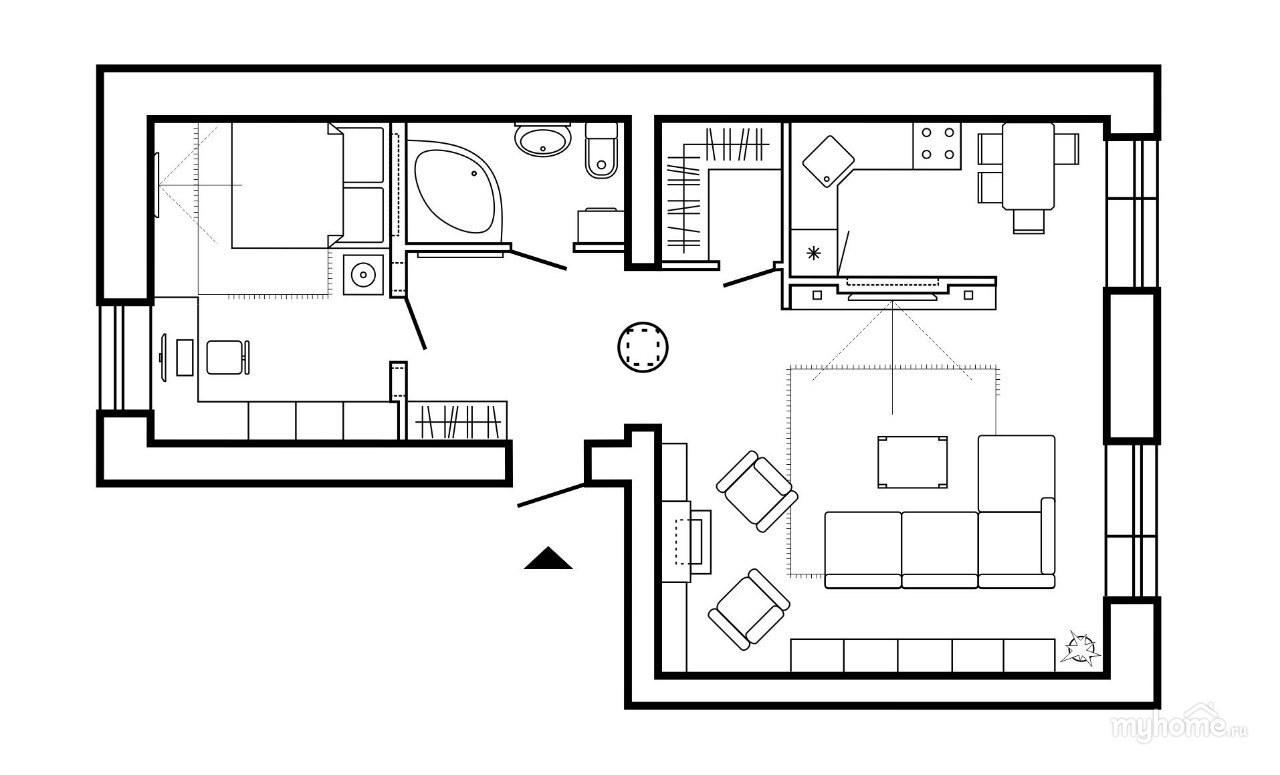bathroom: (407, 123, 626, 246)
bedroom: (151, 121, 399, 440)
hallway: (407, 251, 783, 441)
kitchen: (791, 122, 1106, 278)
living_room: (659, 287, 1106, 676)
walk_in_closet: (662, 121, 780, 263)
